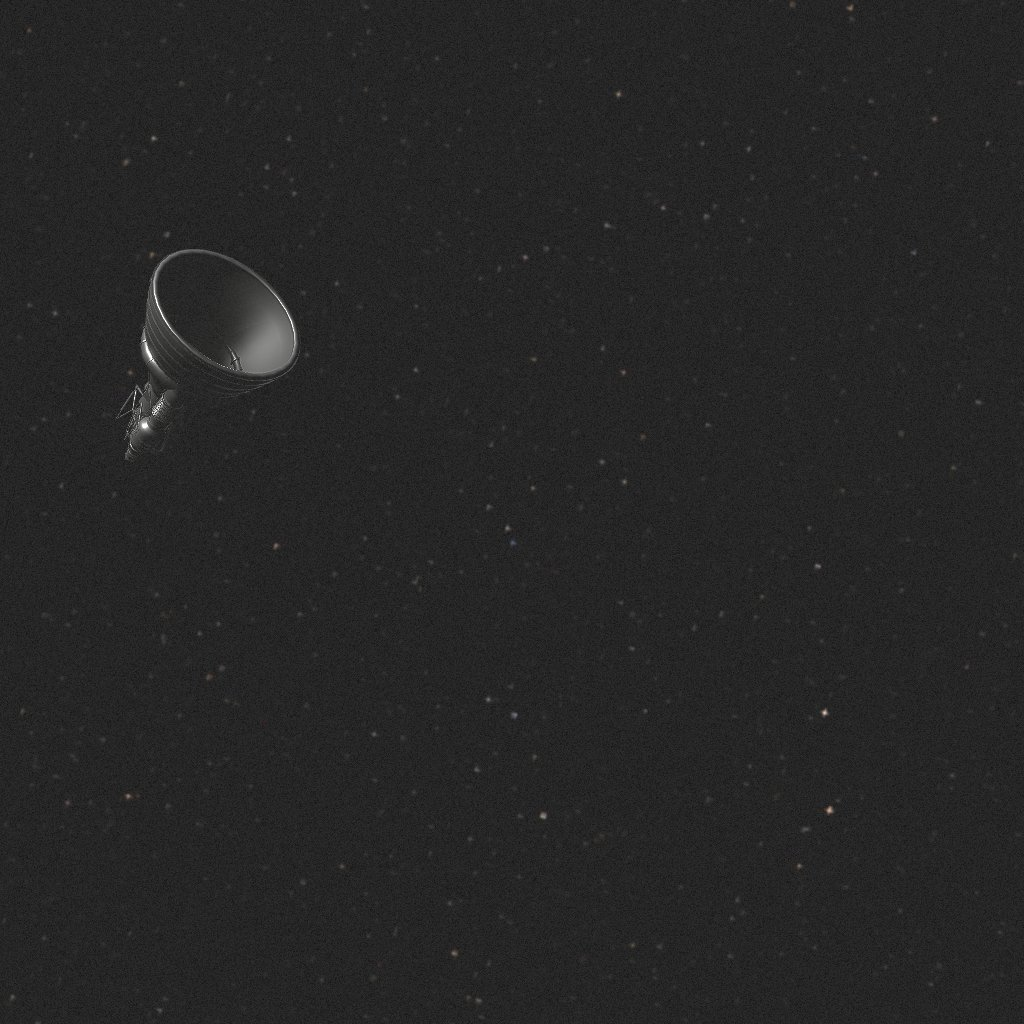debris: (119, 239, 305, 444)
